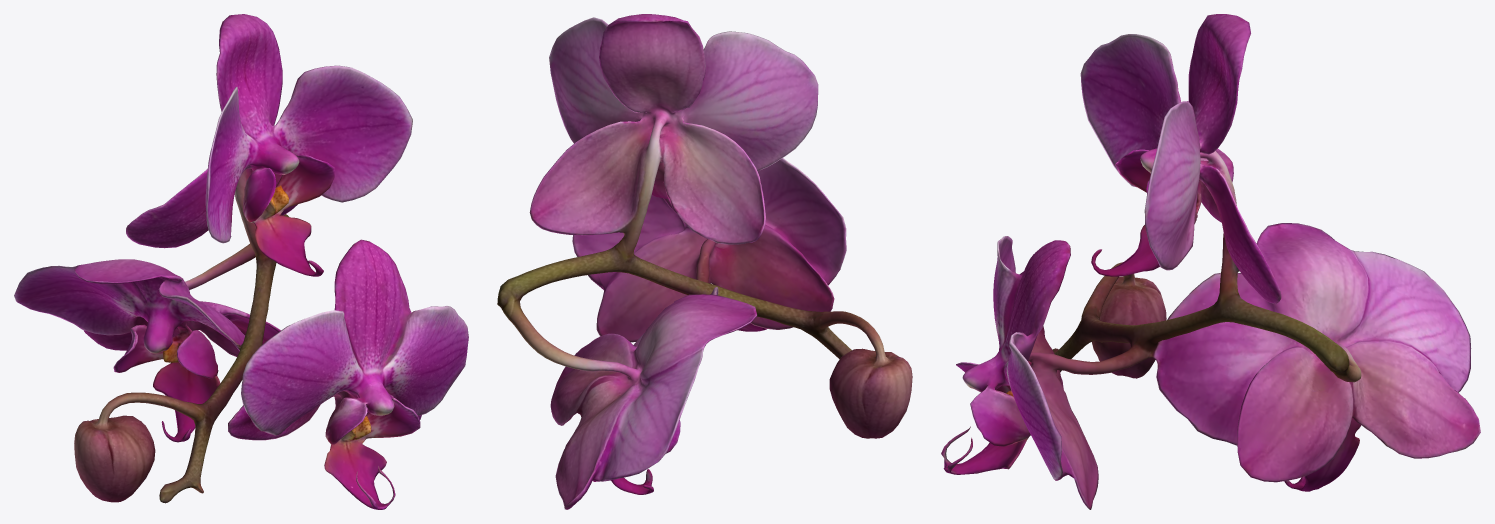
Rendered from orkide-3d.glb.
The picture shows the model from 3 angles, left to right: view 1: azimuth 30°, elevation 25°; view 2: azimuth 150°, elevation 25°; view 3: azimuth 270°, elevation 25°; orthographic projection. The views are drawn at different scales.
Parts seen in each view (by area): view 1: Object_2; view 2: Object_2; view 3: Object_2.
Part boxes in pixels (<box>): Object_2: <box>14,14,468,509</box>; Object_2: <box>497,14,912,509</box>; Object_2: <box>941,14,1480,509</box>.
Size of the model in its own units: 0.312 by 0.3657 by 0.3698.
Materials: 1 (1 with a texture image).
